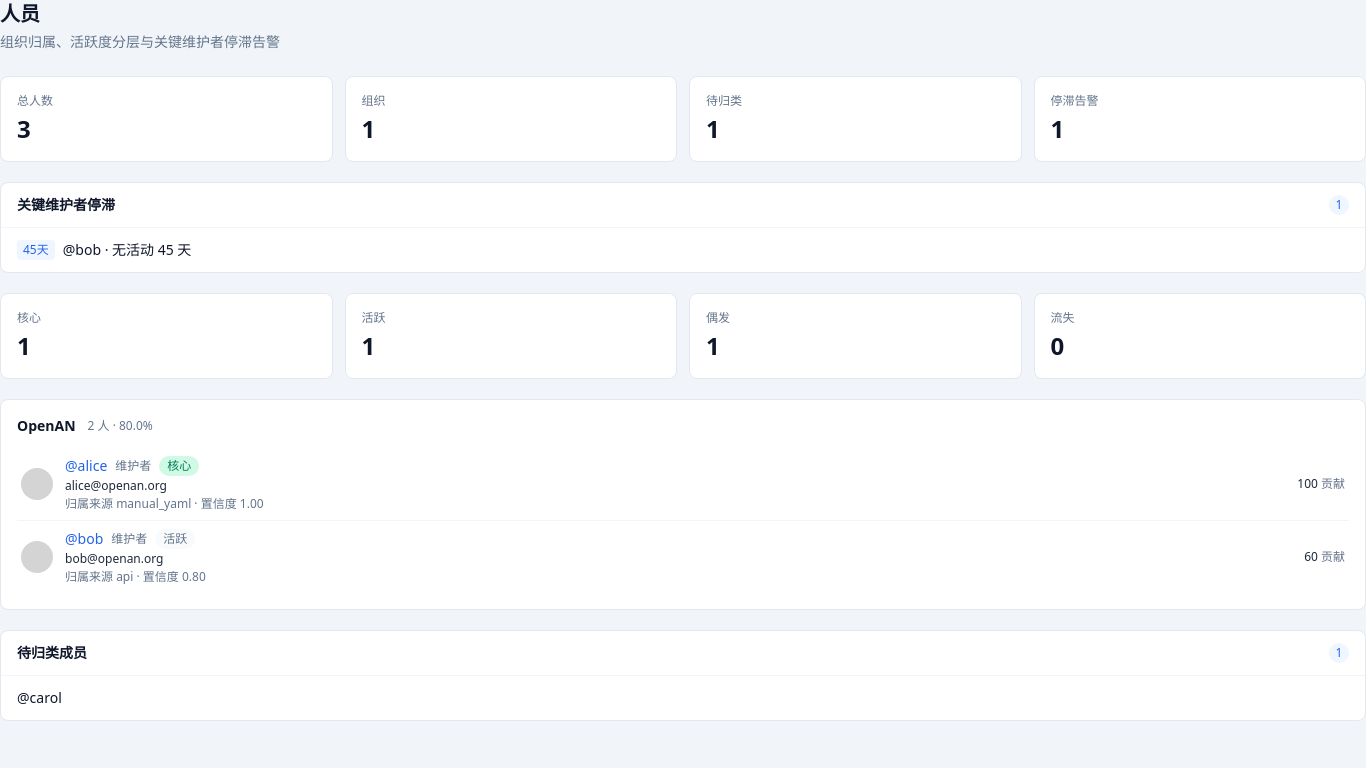
it: PeoplePage › 点击成员打开画像抽屉并展示脱敏邮箱
Click the button "@alice". click: (37, 484)
box: [17, 448, 1349, 520]
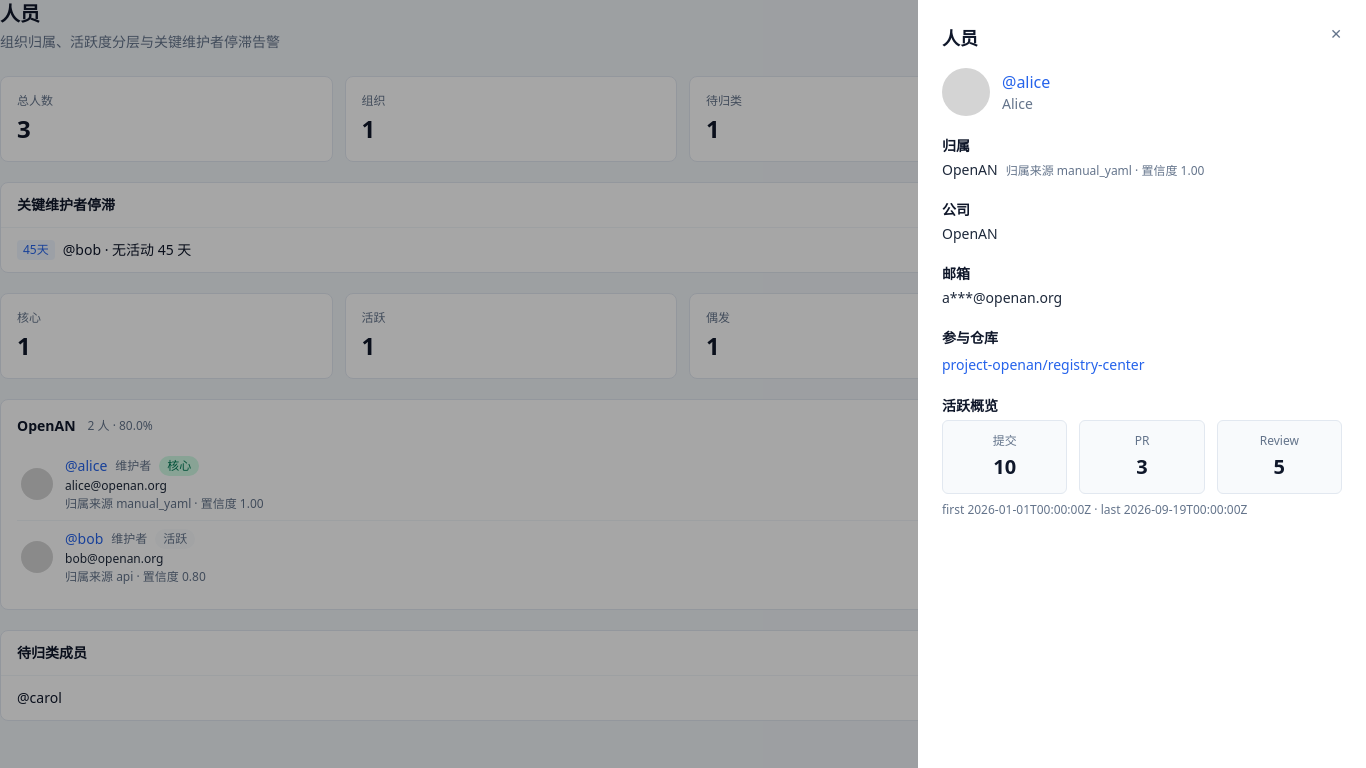
Expected: the text "a***@openan.org" is shown, [942, 288, 1062, 307]
Expected: the link "project-openan/registry-center" is shown, [942, 355, 1144, 374]
